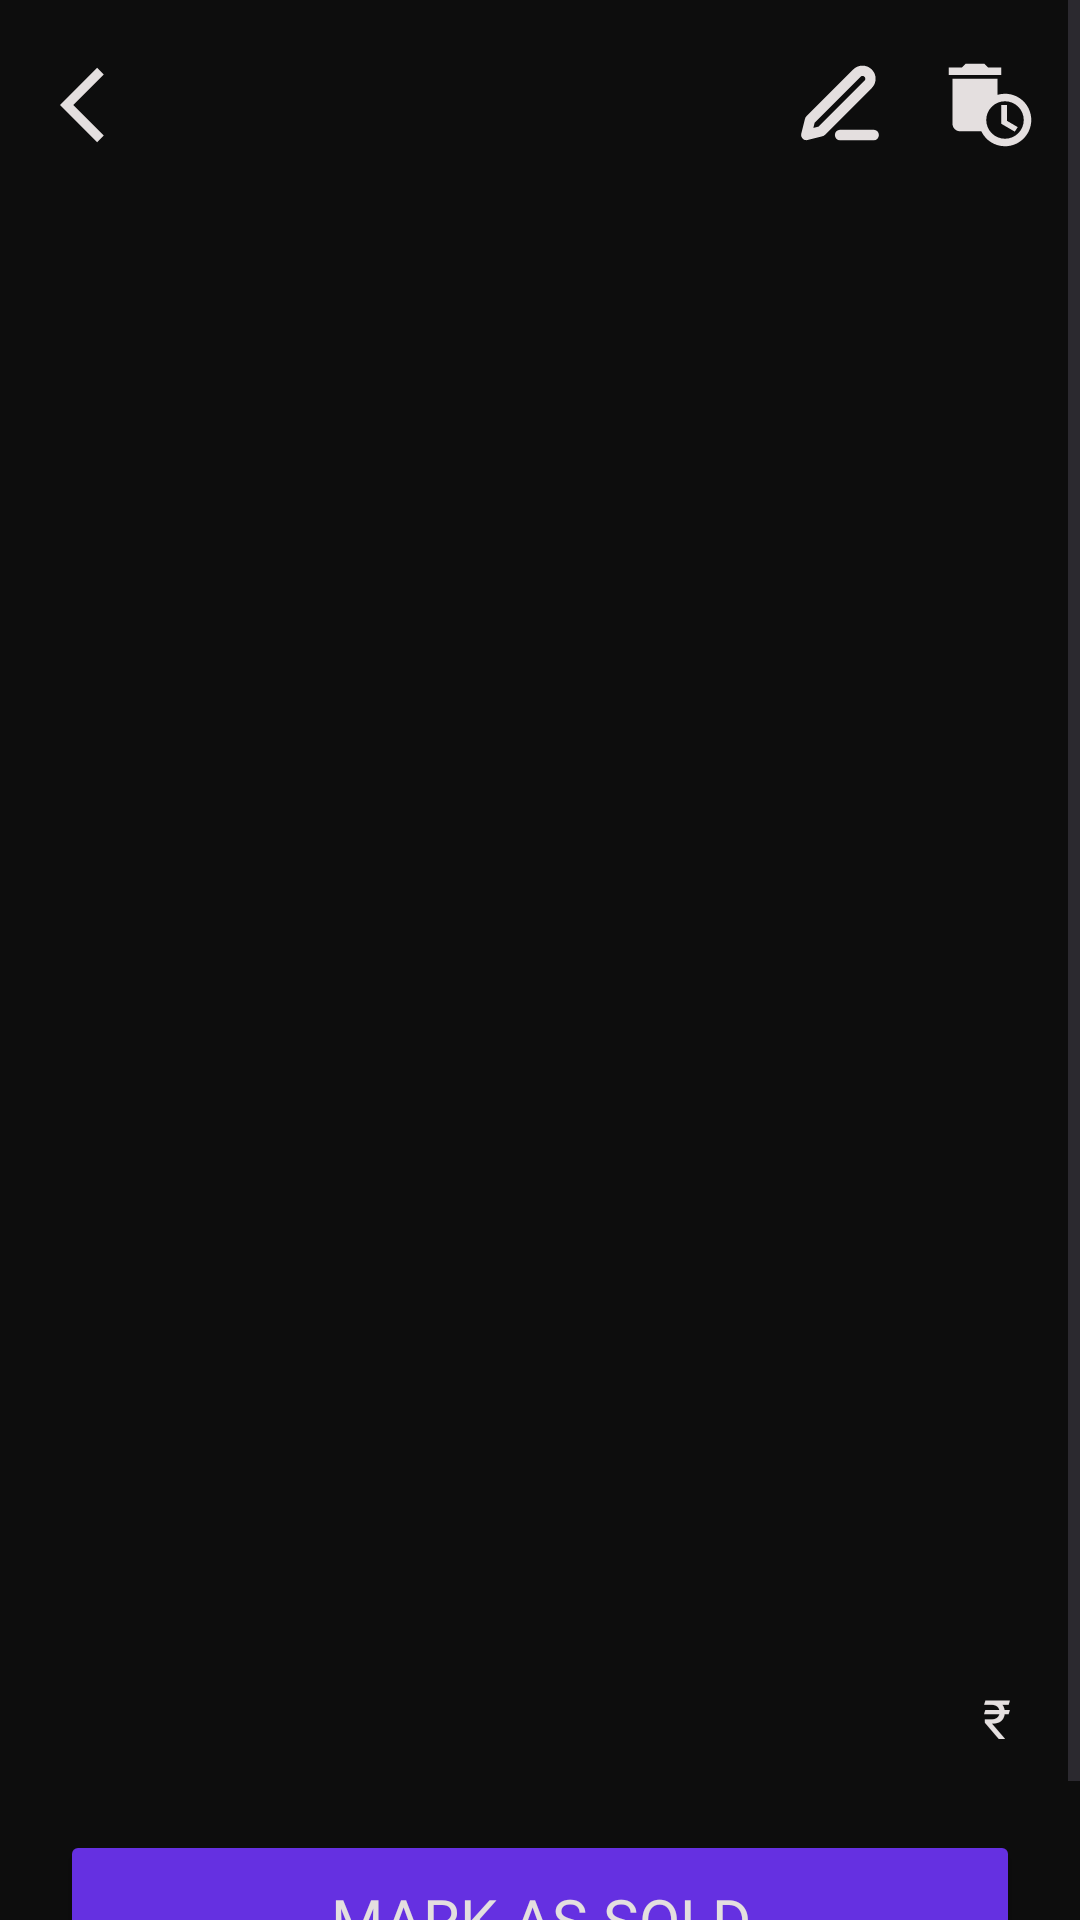

Icons on this 1080x1920 Android screen, each with its box as (x1, y1, x2, y2):
arrow back: (60, 68, 104, 142)
auto delete: (948, 63, 1032, 147)
edit: (801, 65, 879, 141)
